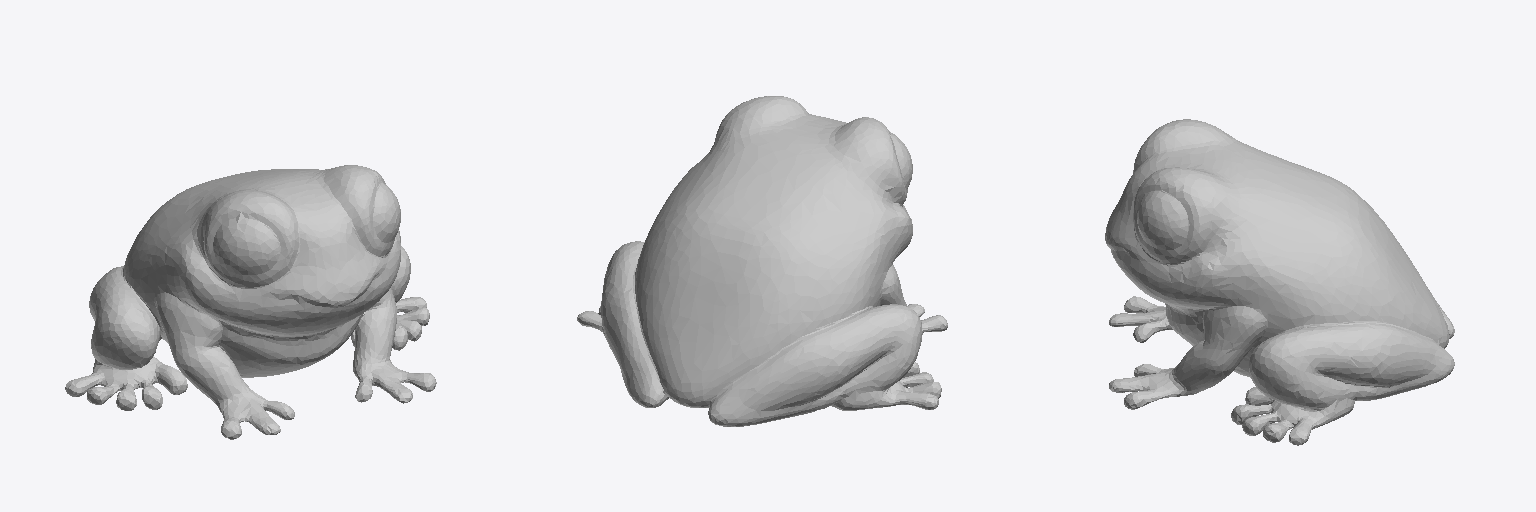
File: Rana.obj
3 renders of one model, left to right at view 1: azimuth 30°, elevation 25°; view 2: azimuth 150°, elevation 25°; view 3: azimuth 270°, elevation 25°, orthographic.
Visible parts, largest first — view 1: Mesh_0; view 2: Mesh_0; view 3: Mesh_0.
Part boxes in pixels (left/top/right/bottom): Mesh_0: left=65, top=165, right=436, bottom=439; Mesh_0: left=577, top=96, right=947, bottom=426; Mesh_0: left=1105, top=119, right=1454, bottom=445.
Size of the model in its own units: 1.99 by 1.15 by 1.68.